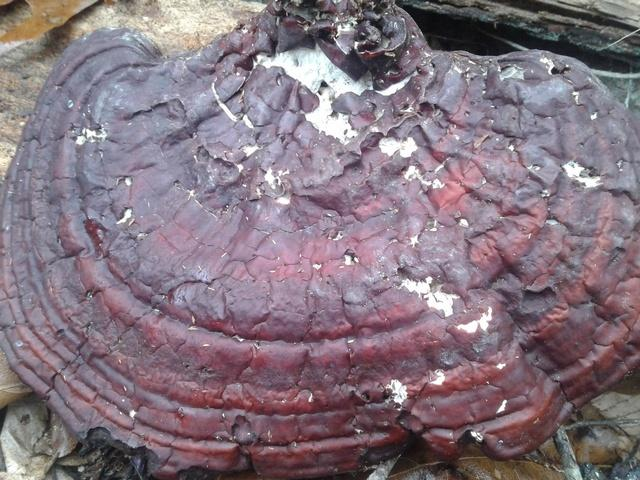Non-edible Mushroom: (1, 1, 637, 478)
